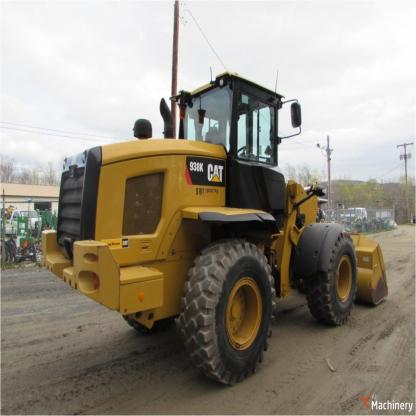bull_dozer/loader/grader: (37, 72, 396, 393)
